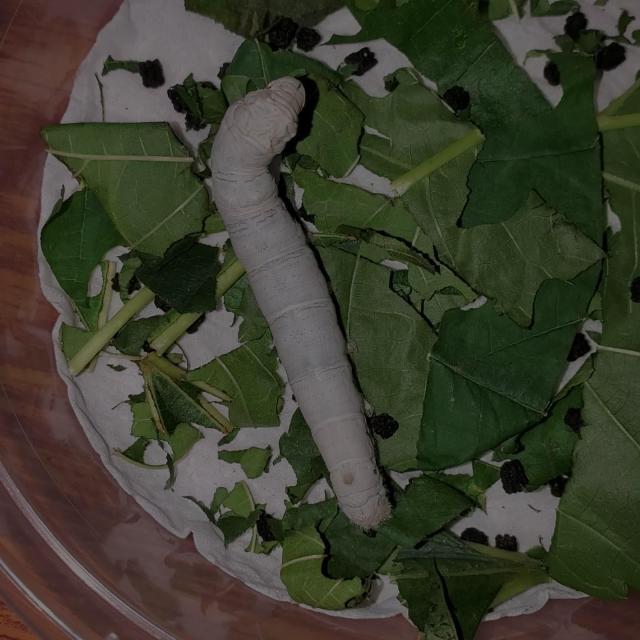Healthy: (199, 65, 404, 538)
